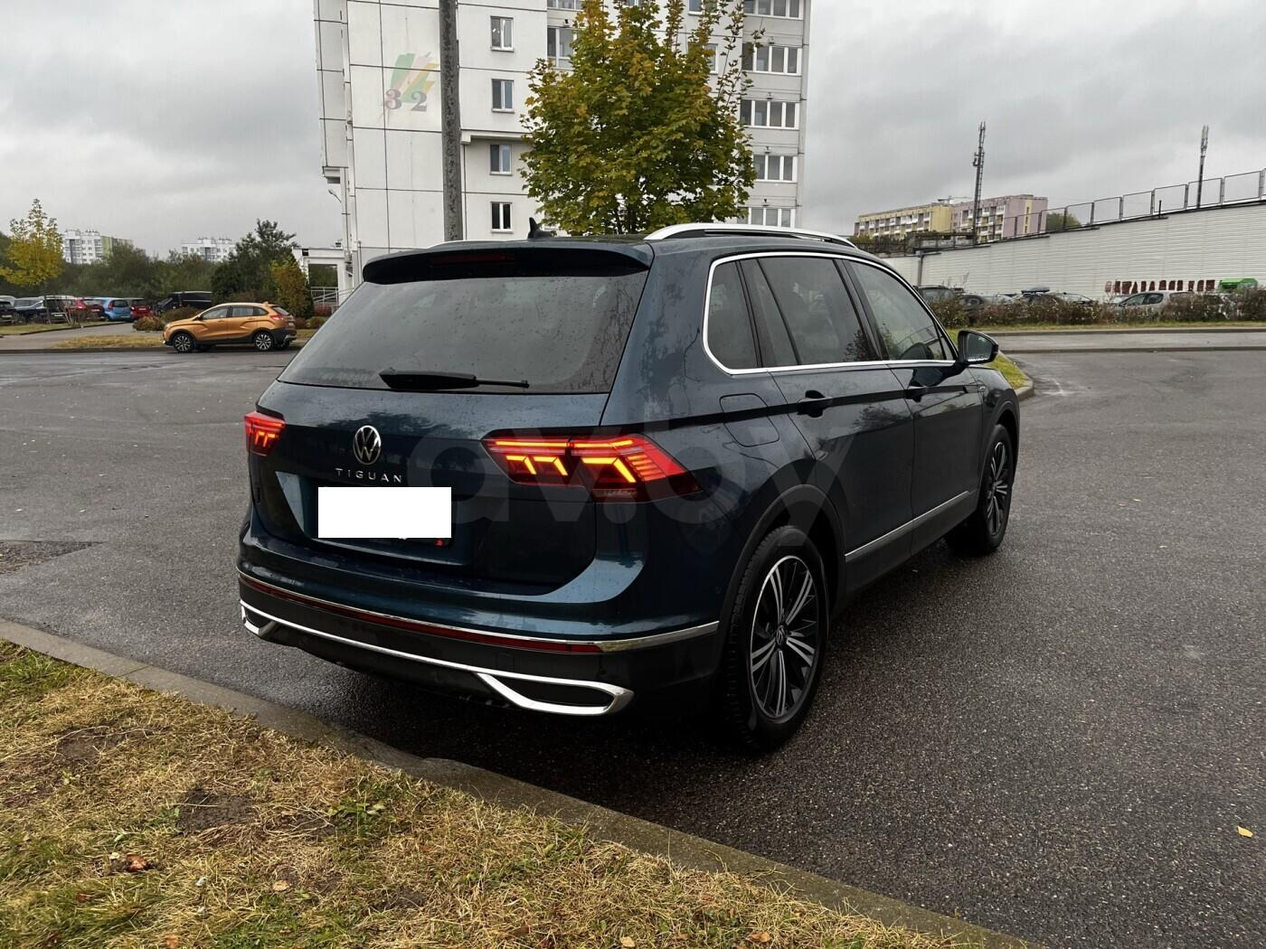Tiguan_2020-2024: (233, 231, 1024, 745)
